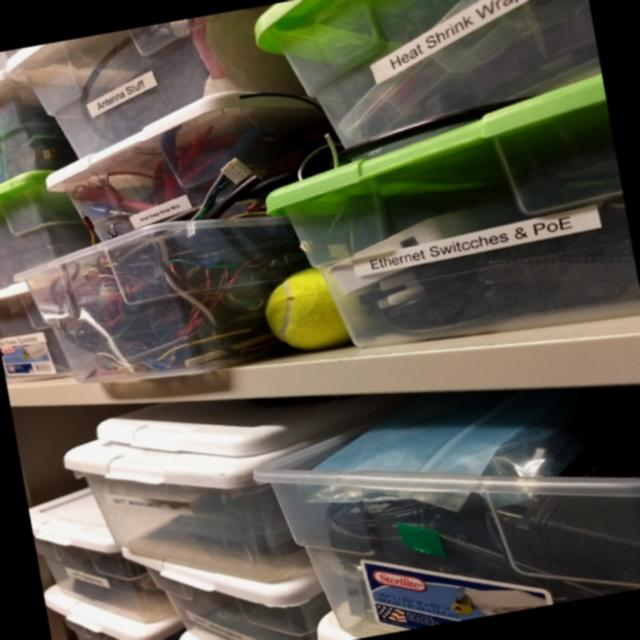tennis-ball: (259, 264, 355, 354)
